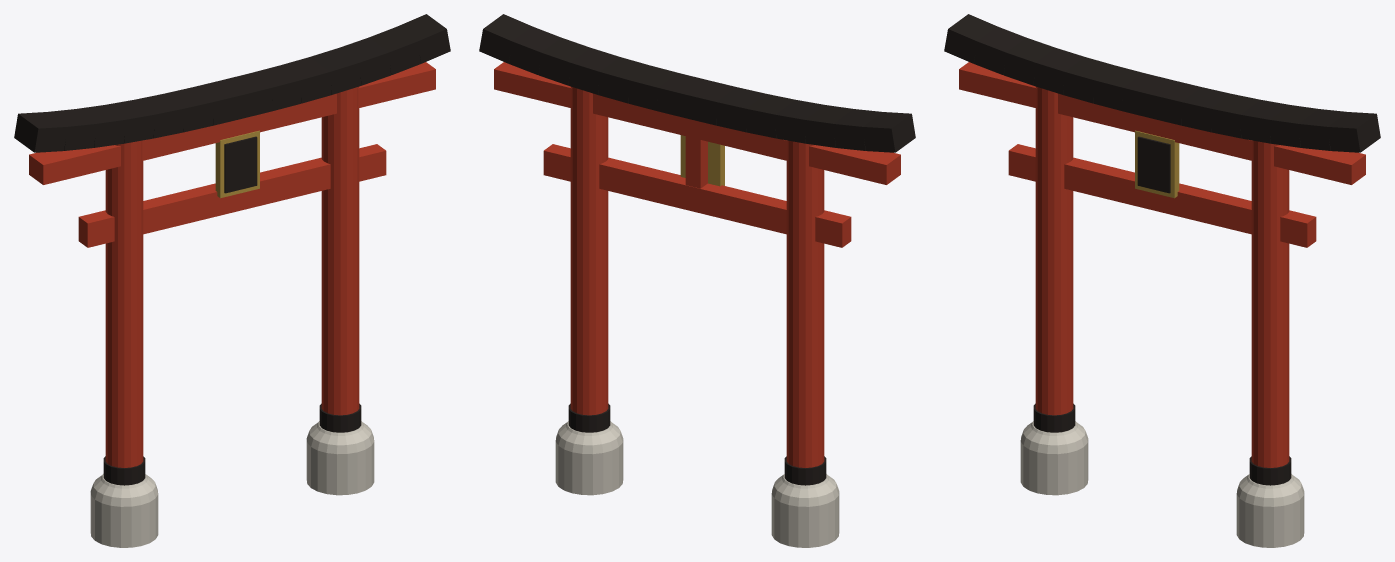
The model's file is Shrine_Torii.fbx.
The picture shows the model from 3 angles, left to right: view 1: azimuth 30°, elevation 25°; view 2: azimuth 150°, elevation 25°; view 3: azimuth 330°, elevation 25°; orthographic projection.
Visible parts, largest first — view 1: Shrine_Torii; view 2: Shrine_Torii; view 3: Shrine_Torii.
Part boxes in pixels (x1,y1,x2,y2): Shrine_Torii: (14,14,450,547); Shrine_Torii: (479,14,915,547); Shrine_Torii: (944,14,1380,547).
Bounding box in the file's own units: 42.4 × 42.43 × 6.
